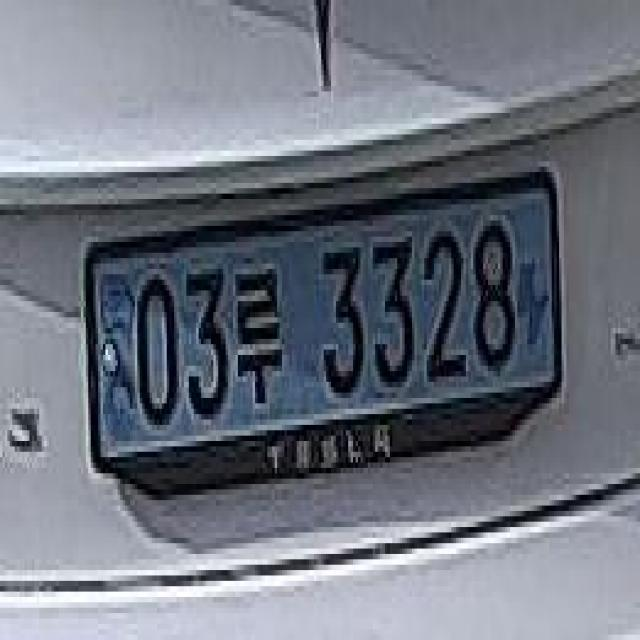EV_plate: (76, 163, 578, 499)
